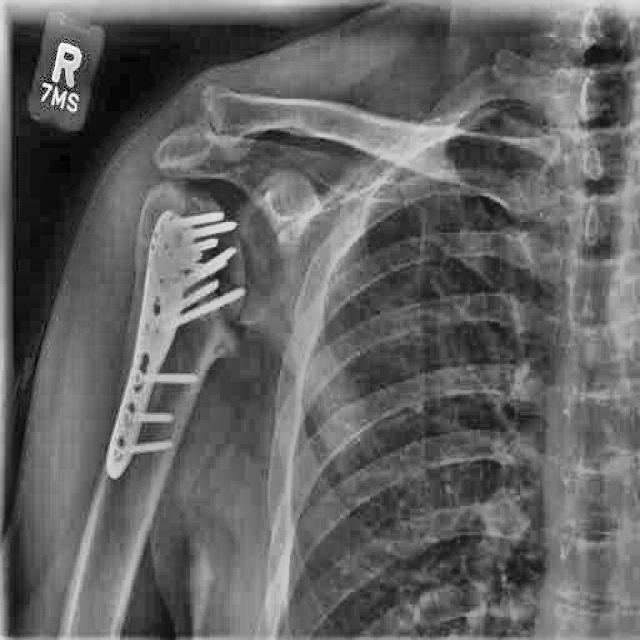shoulder fracture: (174, 187, 259, 371)
